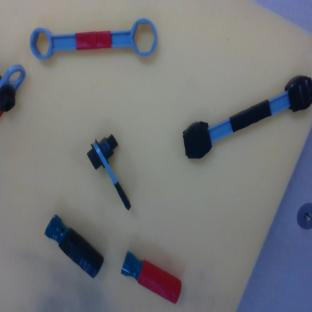part_1_bad: (84, 134, 131, 215)
part_1_good: (0, 59, 29, 119)
part_2_bad: (41, 214, 108, 278)
part_2_good: (116, 250, 187, 304)
part_3_good: (29, 18, 157, 60)
